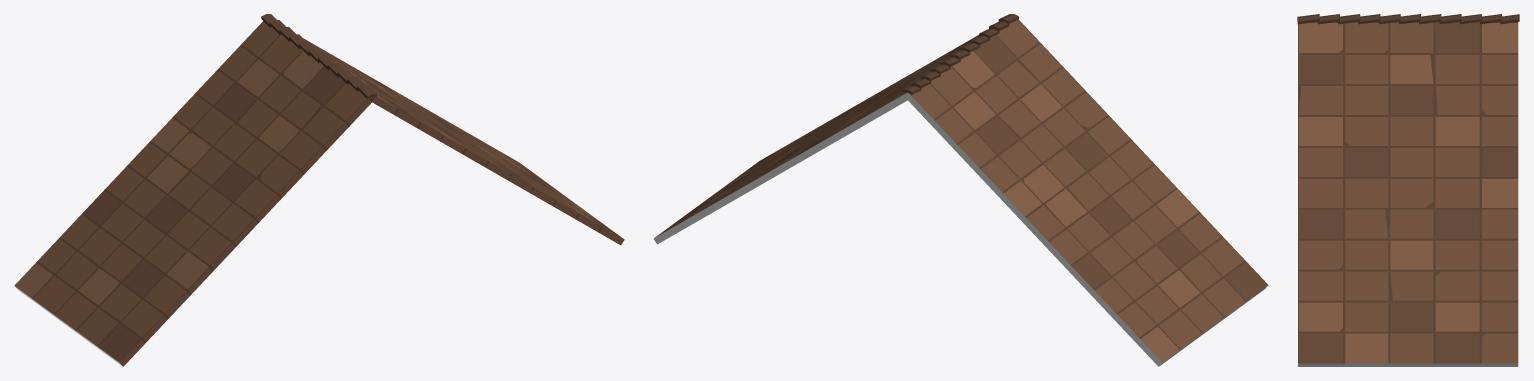
The model's file is Roof2_C9_03.fbx.
The picture shows the model from 3 angles, left to right: view 1: azimuth 30°, elevation 25°; view 2: azimuth 150°, elevation 25°; view 3: azimuth 270°, elevation 25°; orthographic projection. The views are drawn at different scales.
Visible parts, largest first — view 1: Roof2_C9_03; view 2: Roof2_C9_03; view 3: Roof2_C9_03.
Part boxes in pixels (left/top/right/bottom): Roof2_C9_03: left=14, top=14, right=624, bottom=366; Roof2_C9_03: left=653, top=14, right=1268, bottom=366; Roof2_C9_03: left=1297, top=14, right=1519, bottom=366.
Bounding box in the file's own units: 833 × 339 × 304.
